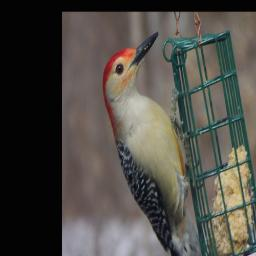Woodpecker: (102, 31, 200, 255)
